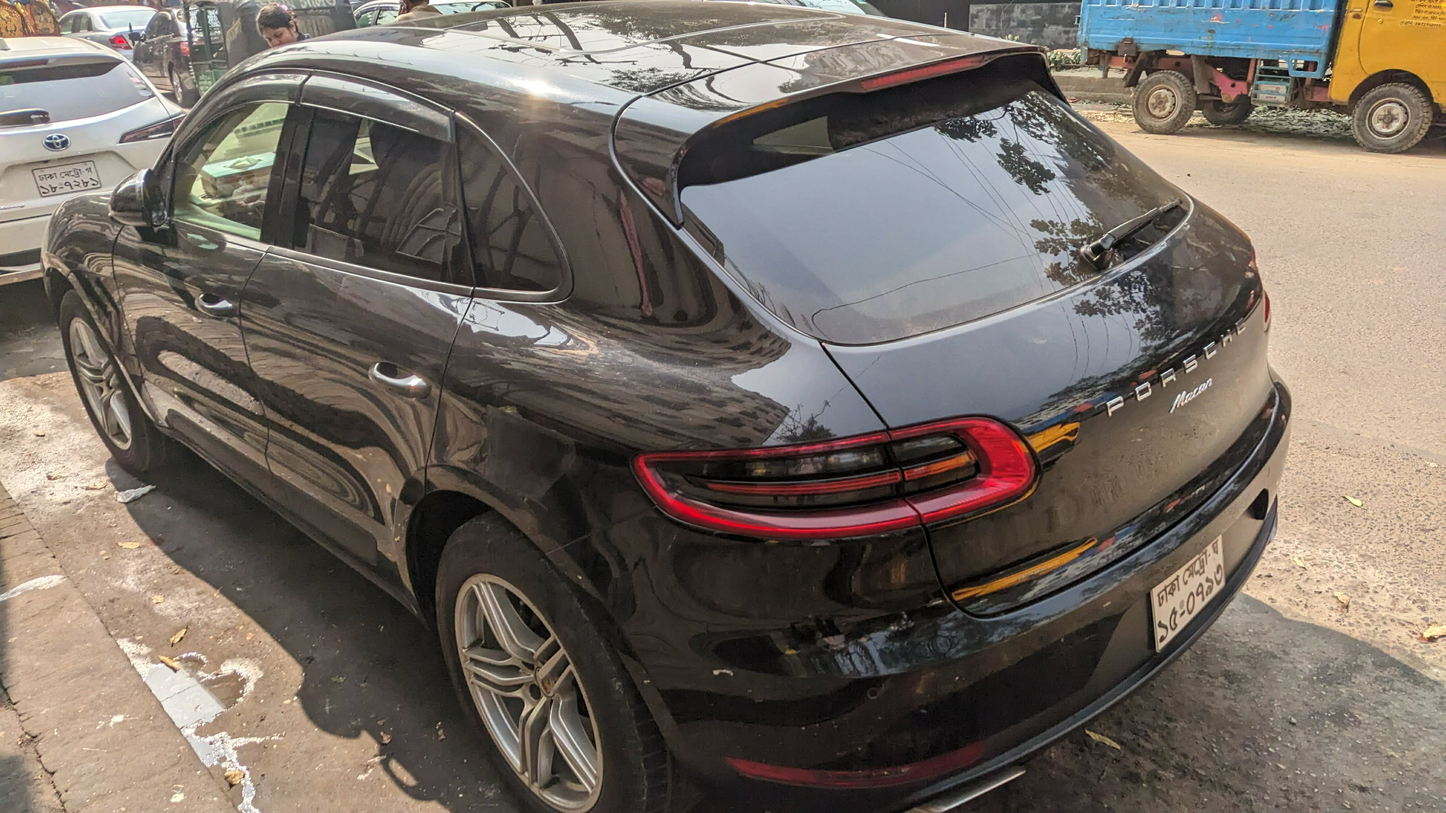Truck: (1074, 0, 1446, 195)
private car: (65, 17, 1313, 801), (0, 9, 237, 319)
